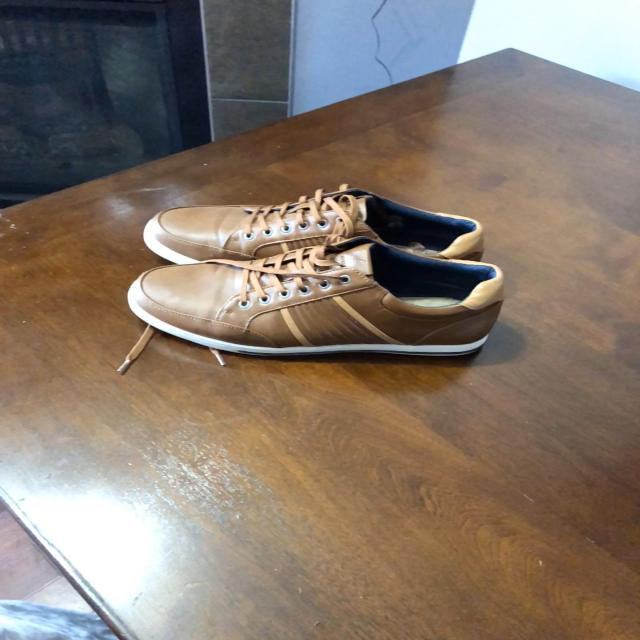shoe: (127, 249, 507, 356), (147, 187, 487, 255)
